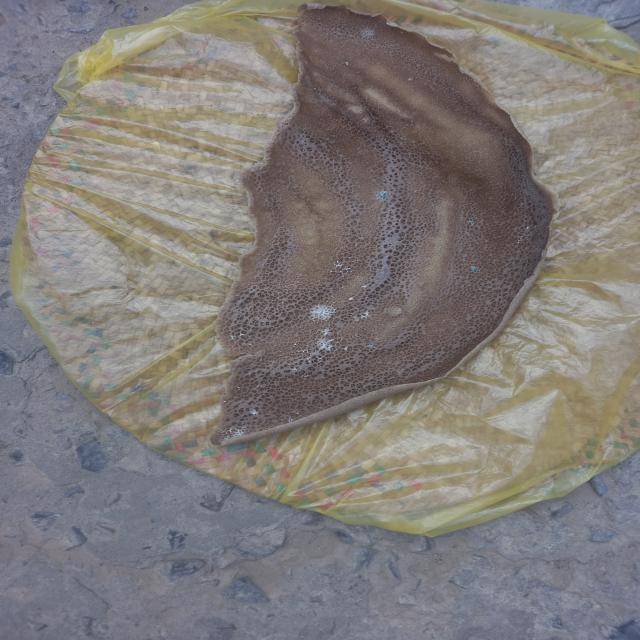injera_mold: (307, 303, 338, 321), (316, 328, 334, 352), (227, 424, 243, 442), (331, 260, 349, 275), (362, 25, 376, 41), (304, 351, 318, 364), (250, 407, 264, 420), (376, 191, 390, 201), (466, 218, 478, 228), (287, 416, 298, 426), (468, 265, 479, 274), (516, 232, 523, 246), (404, 75, 416, 83), (361, 310, 371, 319), (366, 341, 375, 351), (522, 223, 530, 232), (289, 366, 298, 374), (386, 21, 396, 28), (346, 296, 355, 302), (229, 333, 235, 341), (240, 331, 245, 340), (525, 234, 530, 243), (360, 284, 370, 288), (247, 342, 255, 347), (343, 346, 350, 351), (343, 61, 350, 66), (296, 349, 304, 353), (294, 411, 302, 415), (236, 386, 242, 391), (350, 268, 355, 273), (318, 357, 322, 363), (341, 286, 346, 290), (334, 281, 338, 286), (534, 226, 539, 230), (299, 365, 302, 371), (256, 384, 260, 388), (223, 400, 227, 404), (220, 430, 224, 434), (378, 360, 382, 364), (339, 338, 343, 342), (280, 300, 284, 304), (375, 290, 380, 293), (242, 408, 247, 411), (240, 414, 245, 417), (294, 281, 301, 283), (330, 287, 333, 291), (332, 300, 336, 303), (294, 343, 297, 347), (259, 358, 263, 361), (284, 358, 287, 362), (224, 437, 227, 441), (304, 375, 310, 377), (309, 371, 315, 373), (301, 362, 304, 366), (348, 256, 352, 259), (354, 244, 358, 247), (289, 247, 293, 250), (256, 291, 260, 294), (265, 427, 277, 428), (290, 410, 294, 413), (380, 272, 385, 274), (324, 300, 329, 302), (297, 356, 302, 358), (313, 87, 318, 89), (308, 290, 311, 293), (366, 270, 370, 272), (392, 328, 394, 332), (327, 239, 331, 241), (257, 253, 261, 255), (401, 31, 403, 34), (346, 245, 348, 248), (314, 258, 316, 261), (295, 404, 298, 406), (271, 402, 274, 404), (486, 223, 488, 225), (284, 411, 286, 413)
